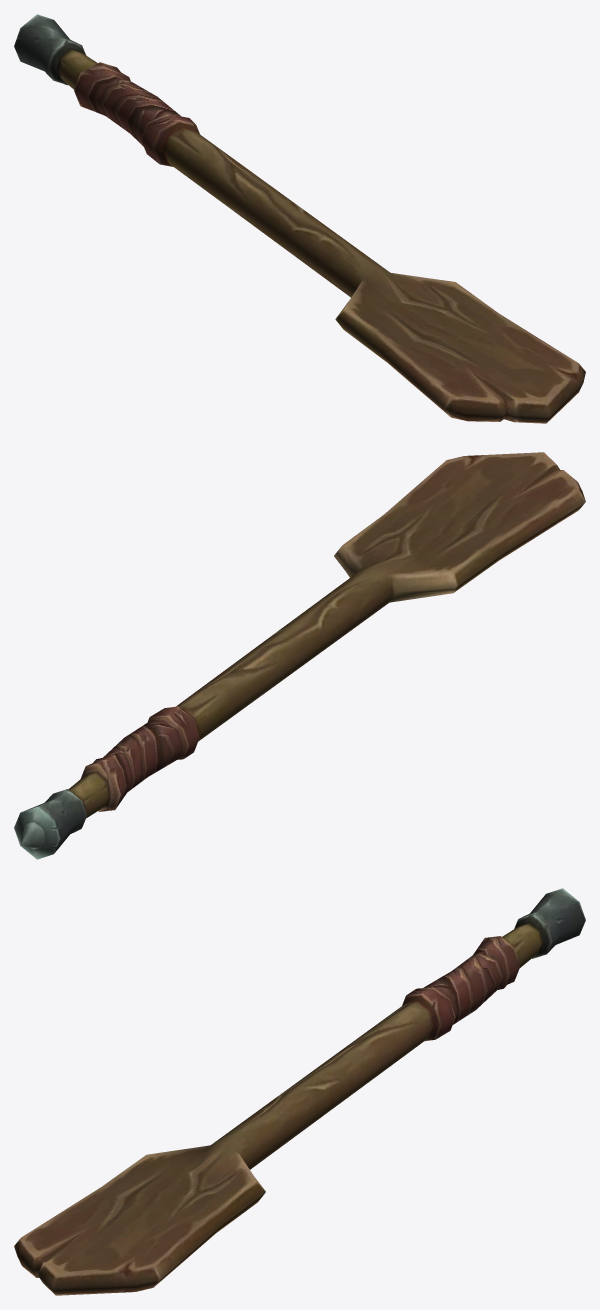
The picture shows the model from 3 angles, top to bottom: view 1: azimuth 30°, elevation 25°; view 2: azimuth 150°, elevation 25°; view 3: azimuth 330°, elevation 25°; orthographic projection.
Size of the model in its own units: 0.7281 by 0.2552 by 4.61.
Materials: 1 (1 with a texture image).
